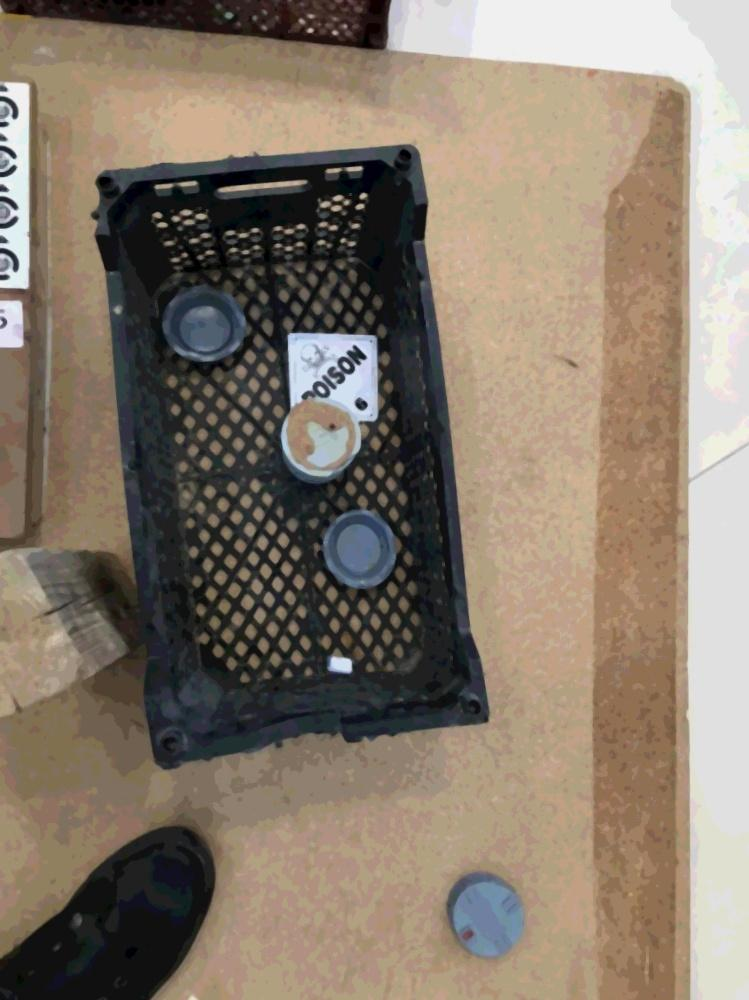poison: (285, 331, 378, 424)
